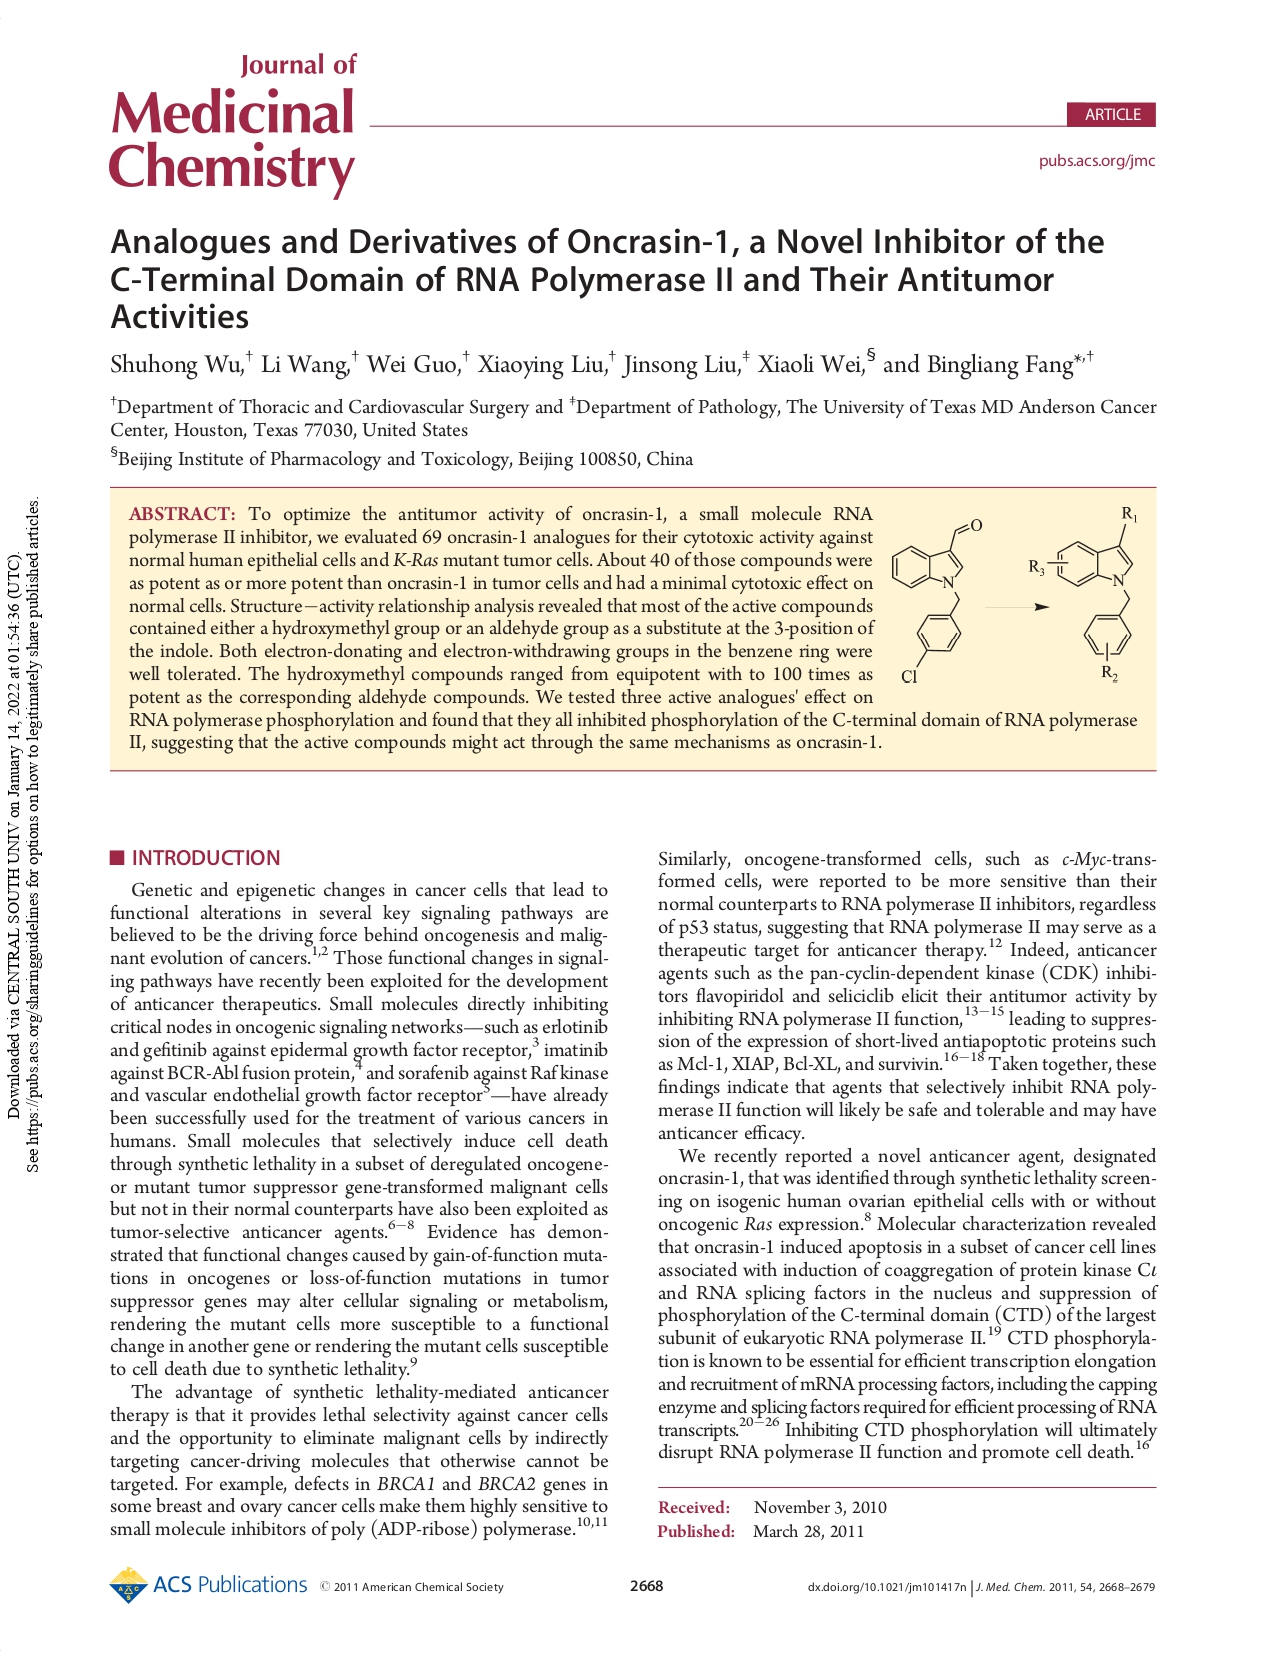exist_molecular: (1028, 501, 1138, 686), (888, 515, 985, 689)
